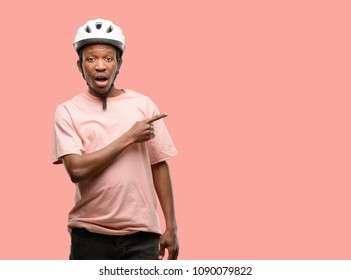helmet: (74, 18, 125, 94)
